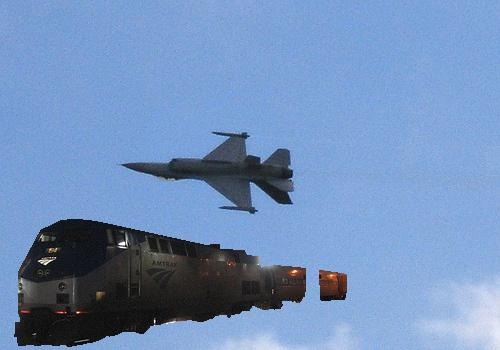tampered: (15, 220, 347, 347)
